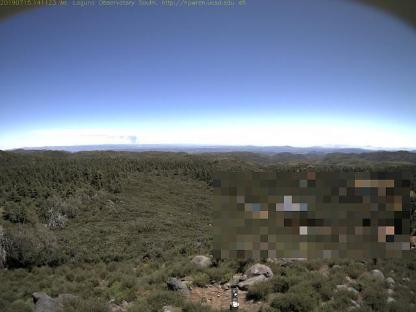smoke: (113, 132, 137, 146)
